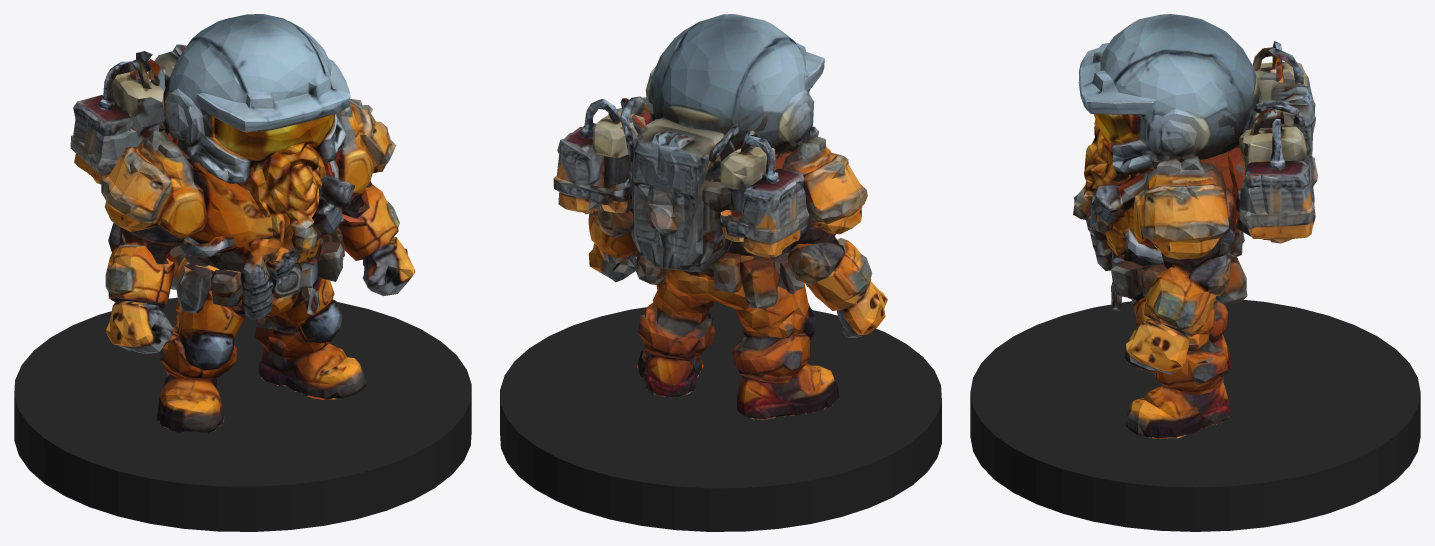
Rendered from hk-grenadier.glb.
3 views of the same model, side by side, from view 1: azimuth 30°, elevation 25°; view 2: azimuth 150°, elevation 25°; view 3: azimuth 270°, elevation 25° (orthographic). The views are drawn at different scales.
Visible parts, largest first — view 1: figure, base; view 2: figure, base; view 3: base, figure.
Part boxes in pixels (x1=…): figure: x1=70, y1=14, x2=415, y2=433; base: x1=14, y1=297, x2=471, y2=531; figure: x1=553, y1=14, x2=887, y2=420; base: x1=500, y1=301, x2=941, y2=531; base: x1=970, y1=299, x2=1420, y2=531; figure: x1=1073, y1=14, x2=1317, y2=439.
Size of the model in its own units: 1.1 by 1.12 by 1.1.
2 materials, 1 textured.
